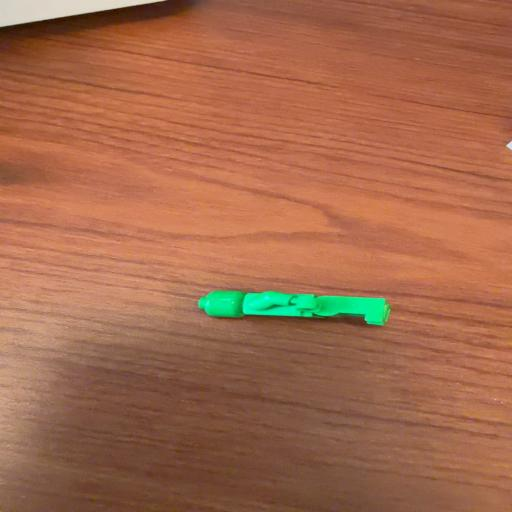UnoQ-minifig-detector: (198, 290, 390, 325)
